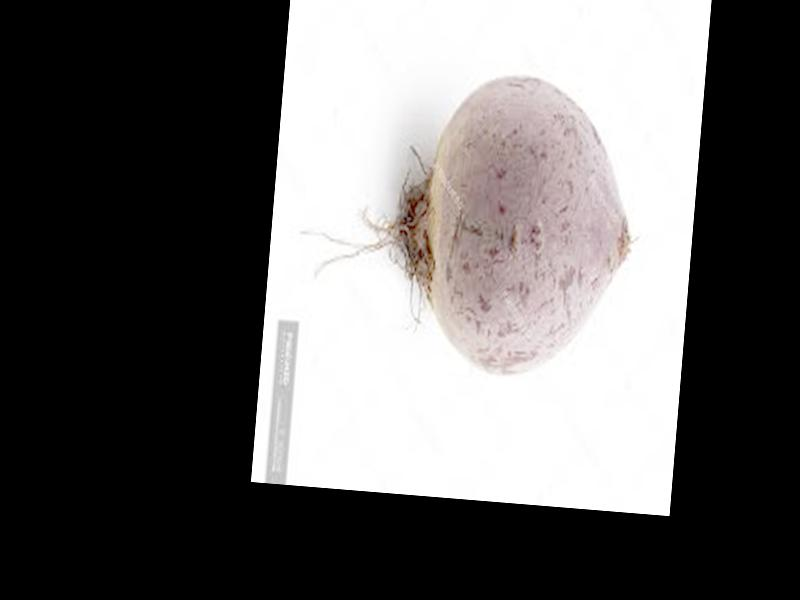Beet: (288, 57, 646, 387)
